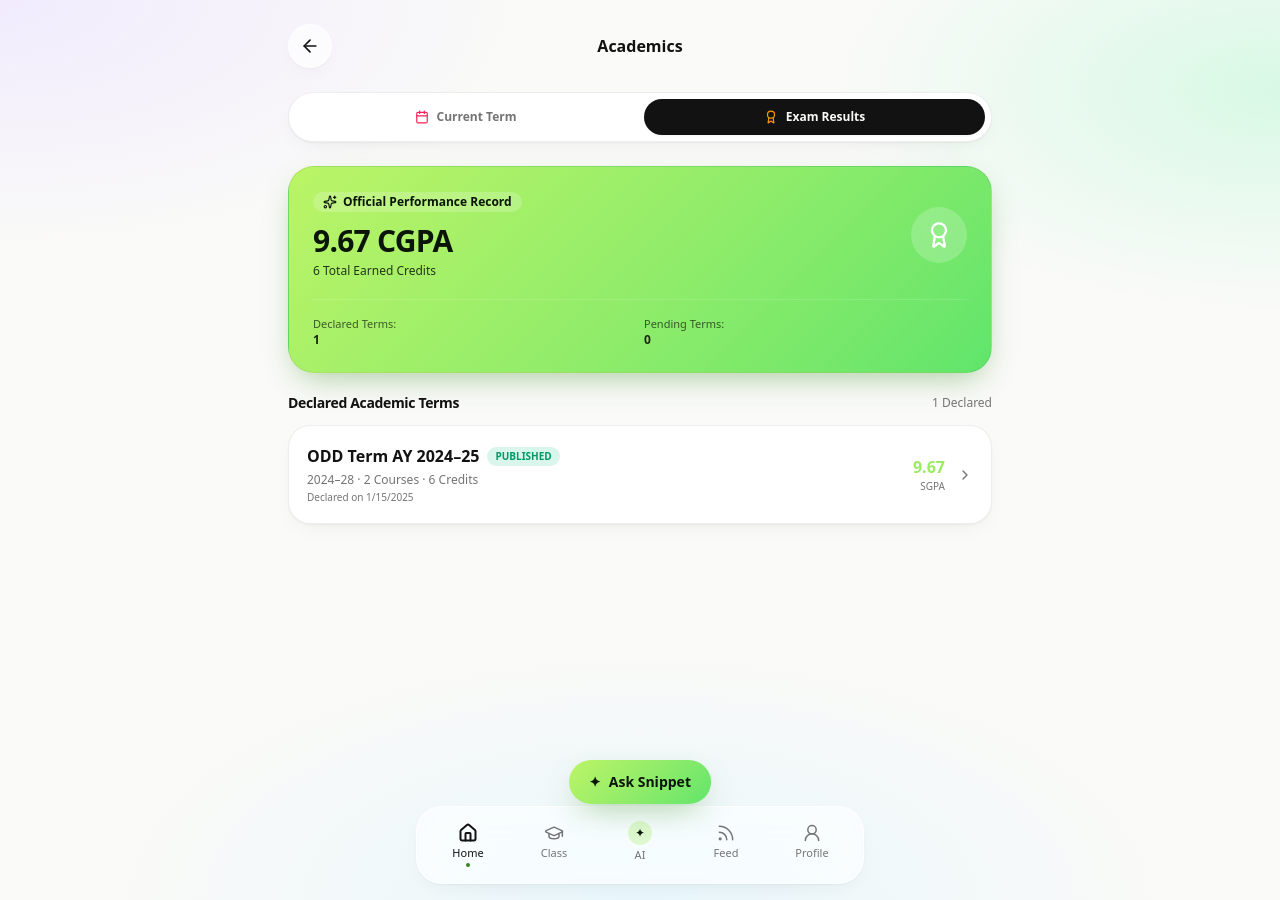
StudentAcademics Component › 2. Renders Exam Results tab, terms summary, and supports drilldown into individual term
The image size is (1280, 900).
Expected: the heading "9.67 CGPA" is shown, 313,220 -> 452,261
Expected: the text "6 Total Earned Credits" is shown, 313,262 -> 436,279
# Click on the declared term card to drill down
Click the text "ODD Term AY 2024–25" at (393,456), box 307,444 -> 480,468
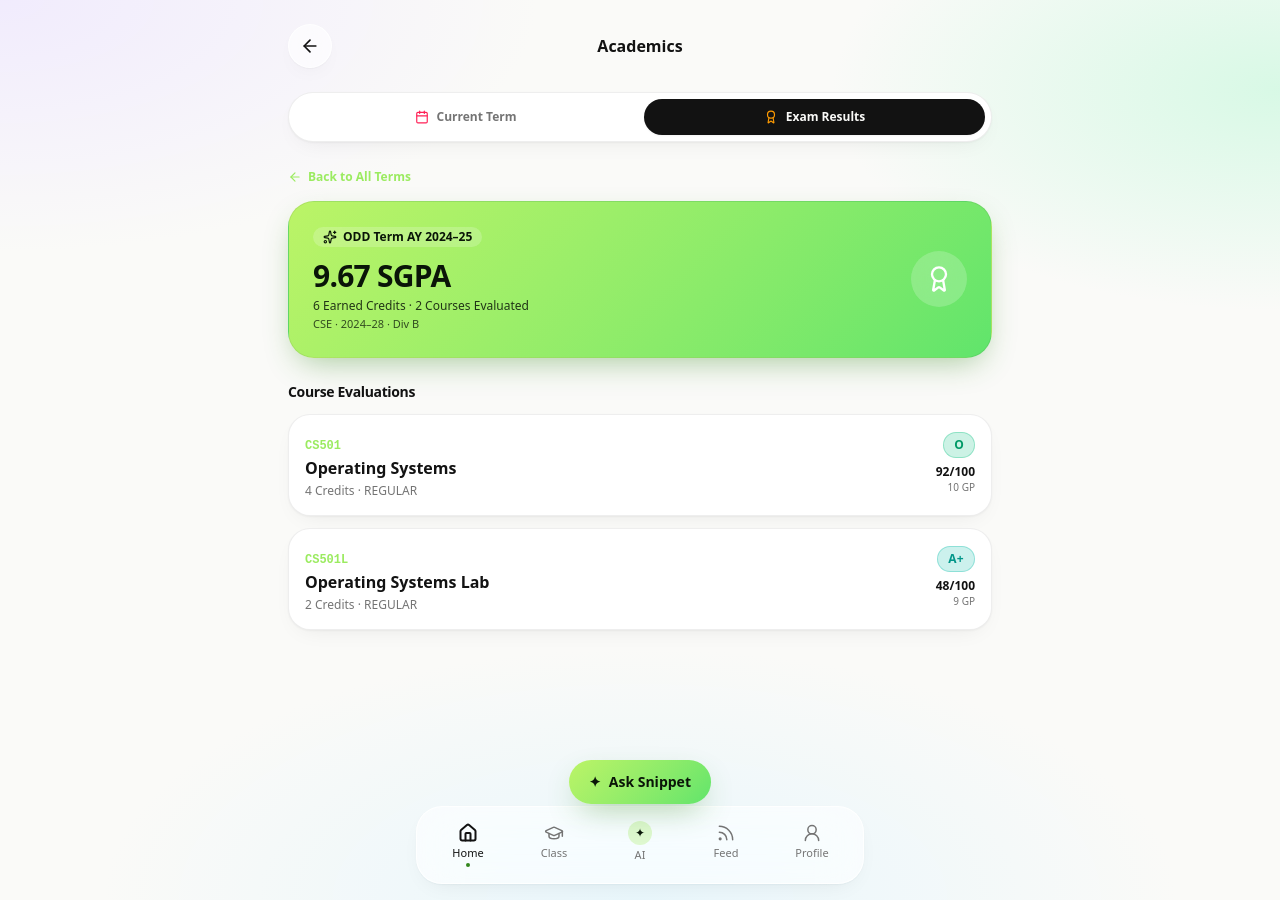
Expected: the heading "9.67 SGPA" is shown, 313,255 -> 450,296
Expected: the text "6 Earned Credits · 2 Courses Evaluated" is shown, 313,298 -> 529,314
Expected: the button "Back to All Terms" is shown
# Click back to all terms
Click the button "Back to All Terms" at (349,177), box 288,169 -> 411,185
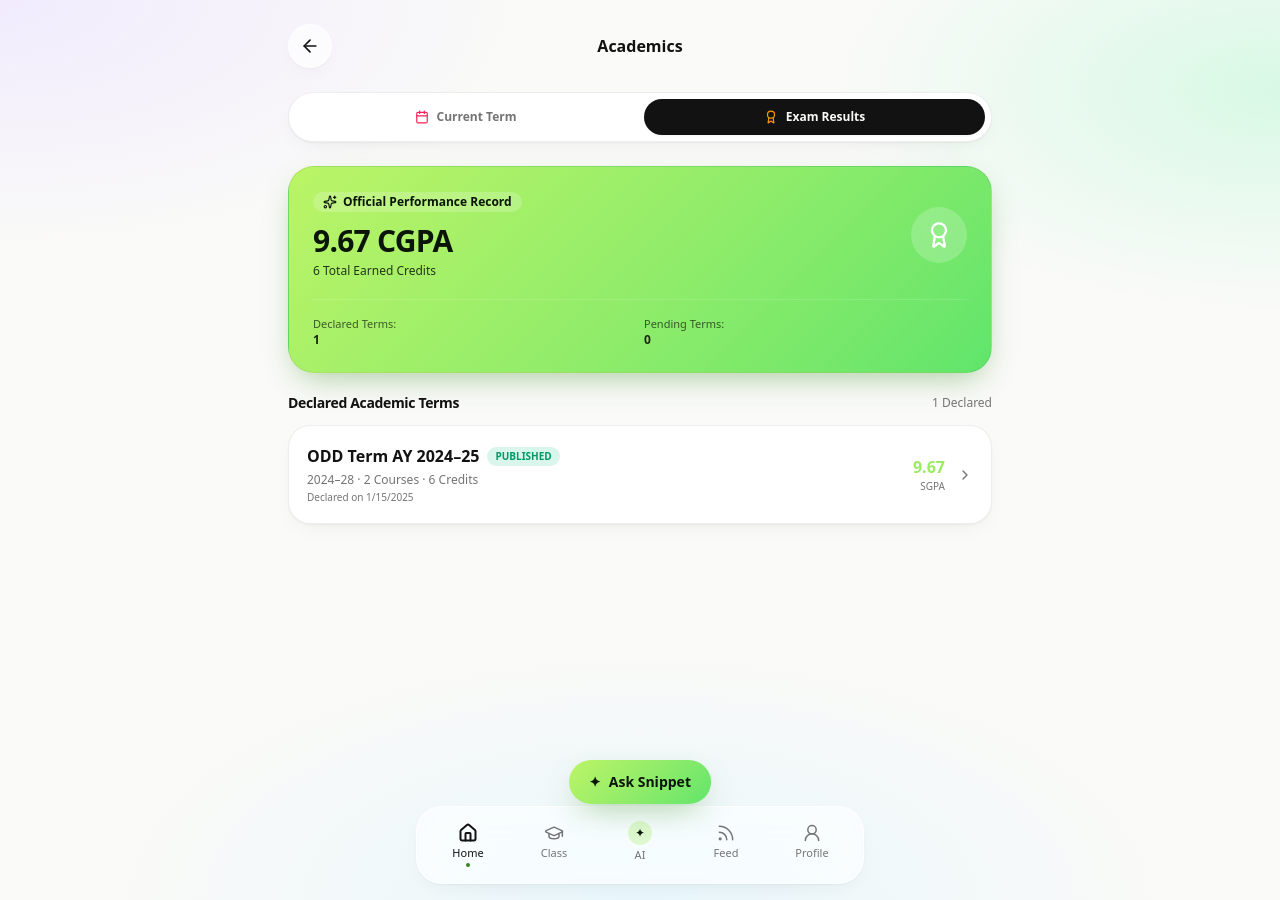
Expected: the heading "Declared Academic Terms" is shown, 288,393 -> 459,413
